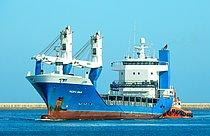Ship: (24, 26, 176, 122)
